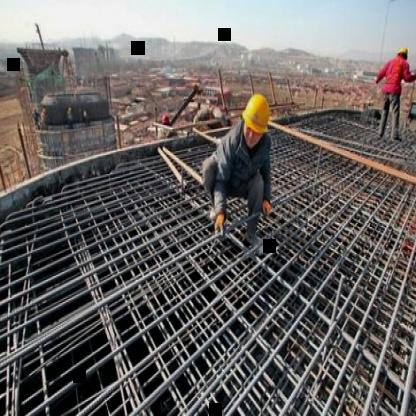helmet: (242, 88, 272, 148), (395, 44, 410, 62)
